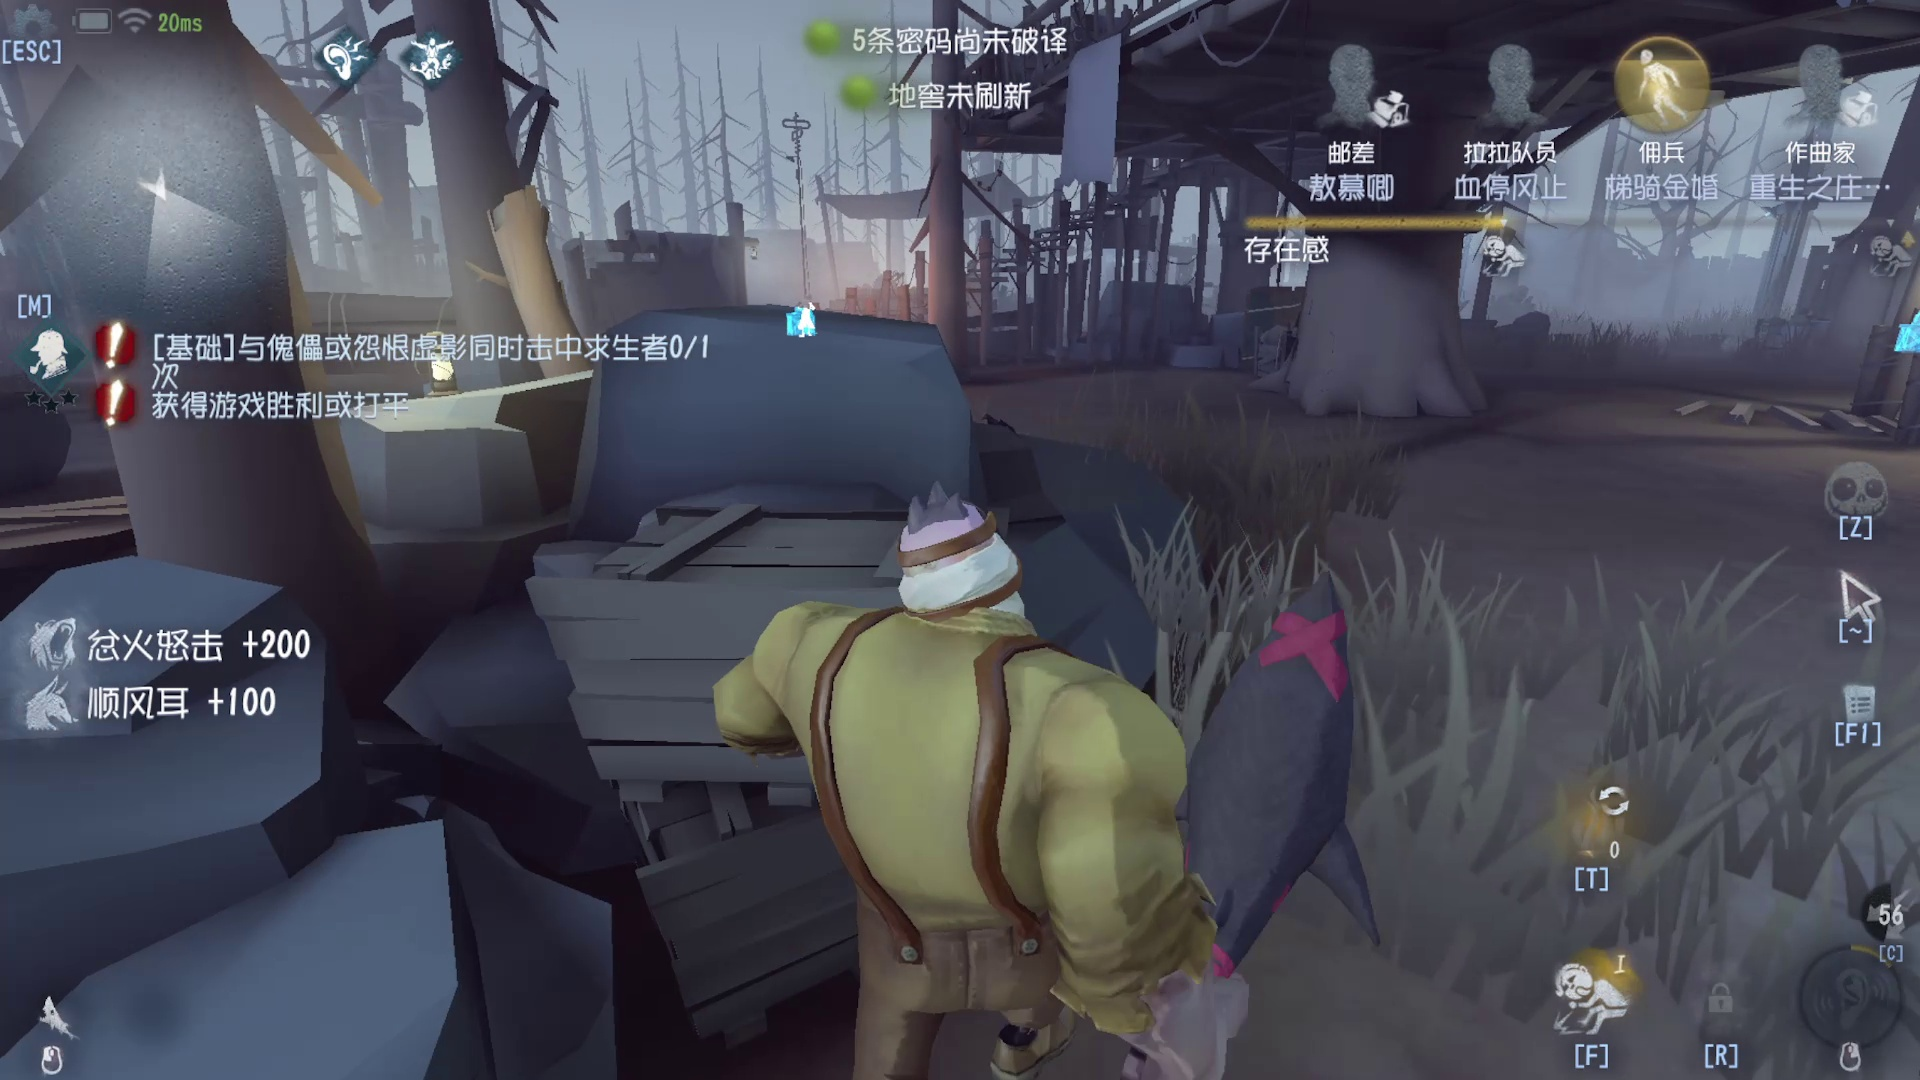密码机: (767, 75, 833, 352)
